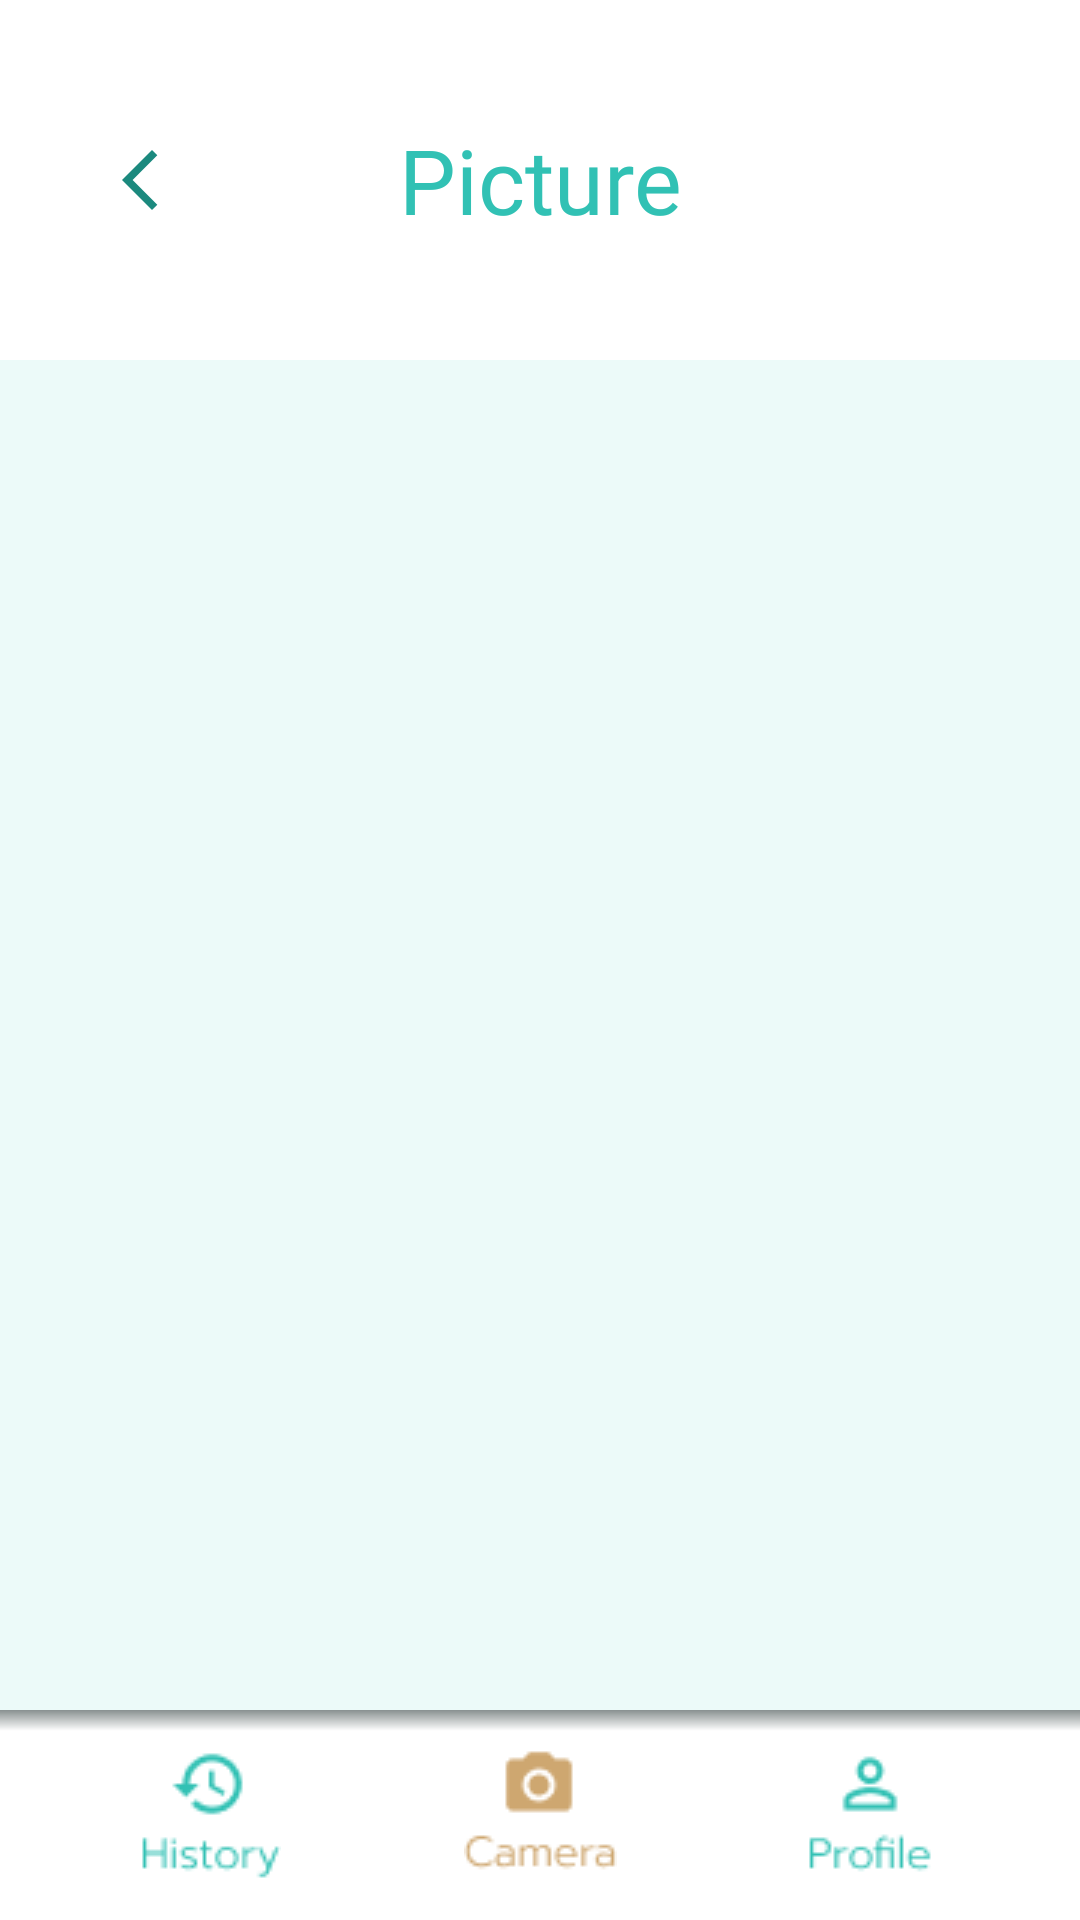

Icons on this 1080x1920 Android screen, each with the point to tap as point (x, y):
arrow: point (139, 180)
